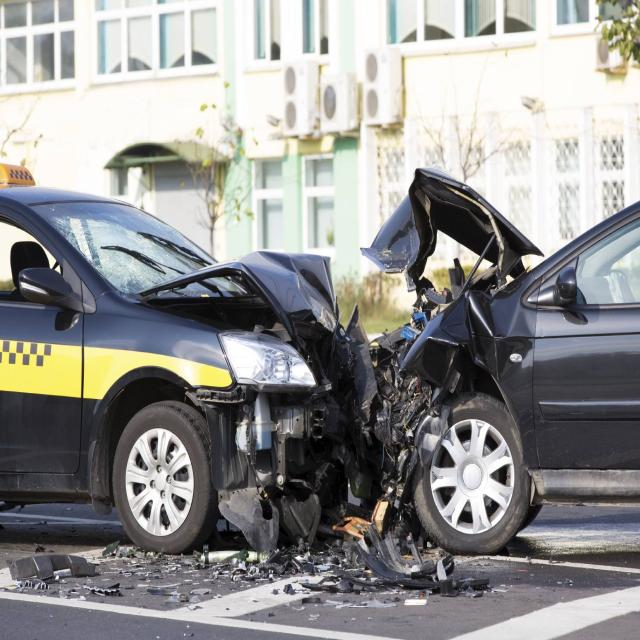crush: (358, 169, 543, 589), (137, 250, 378, 556)
